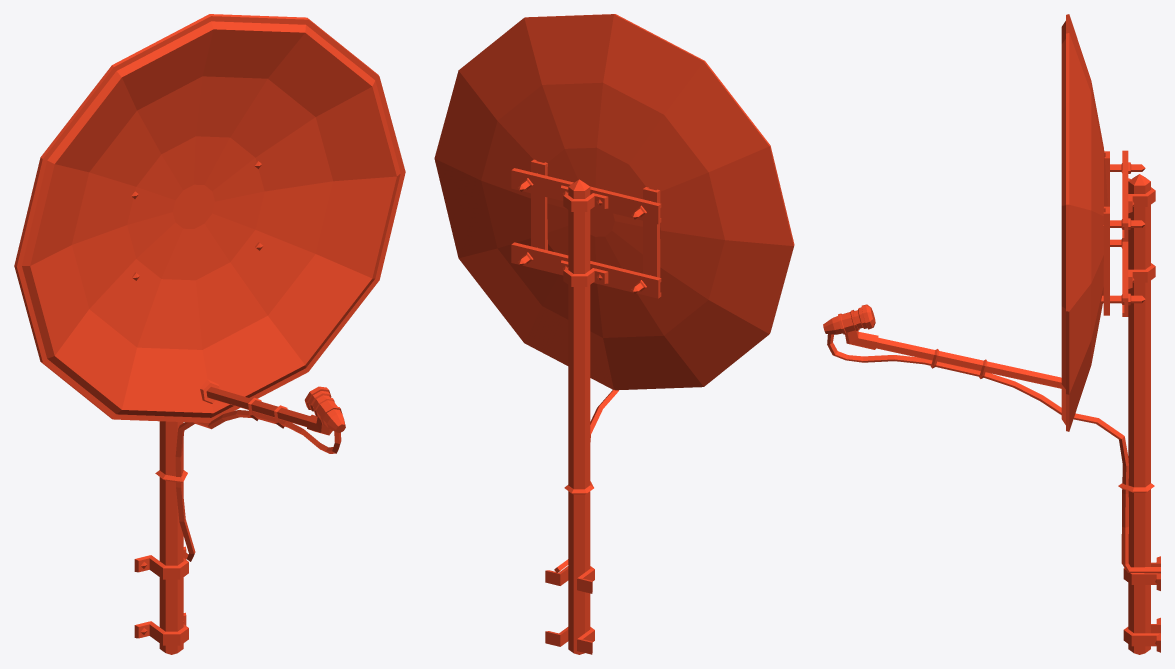
Rendered from SM_Satellite_A_City.fbx.
The picture shows the model from 3 angles, left to right: view 1: azimuth 30°, elevation 25°; view 2: azimuth 150°, elevation 25°; view 3: azimuth 270°, elevation 25°; orthographic projection. The views are drawn at different scales.
Visible parts, largest first — view 1: SM_Satellite_A_City; view 2: SM_Satellite_A_City; view 3: SM_Satellite_A_City.
Boxes of the visible parts, box(x1,y1,x2,y2) form: SM_Satellite_A_City: box(14, 14, 405, 654); SM_Satellite_A_City: box(434, 14, 794, 654); SM_Satellite_A_City: box(823, 14, 1160, 654).
Bounding box in the file's own units: 1.01 × 1.65 × 0.813.
